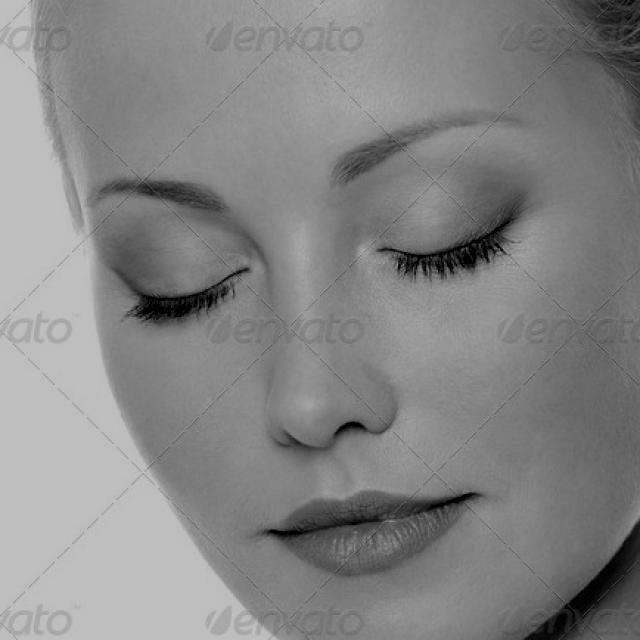real: (40, 0, 640, 618), (108, 194, 540, 332)
